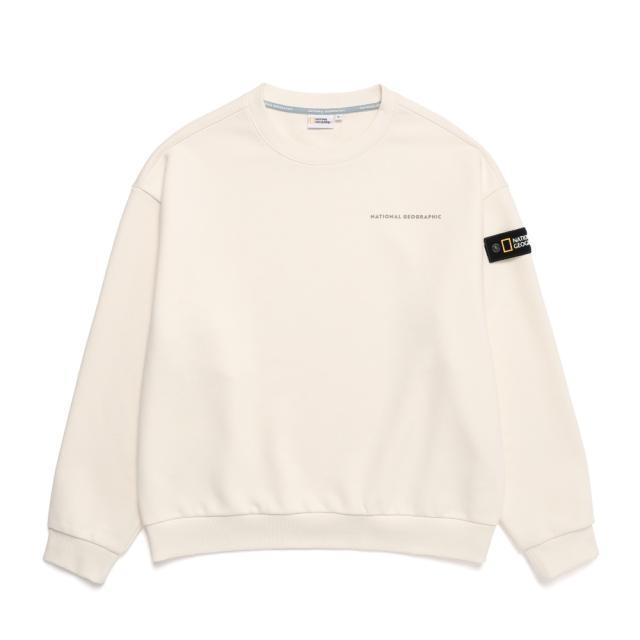sweater: (38, 80, 604, 589)
